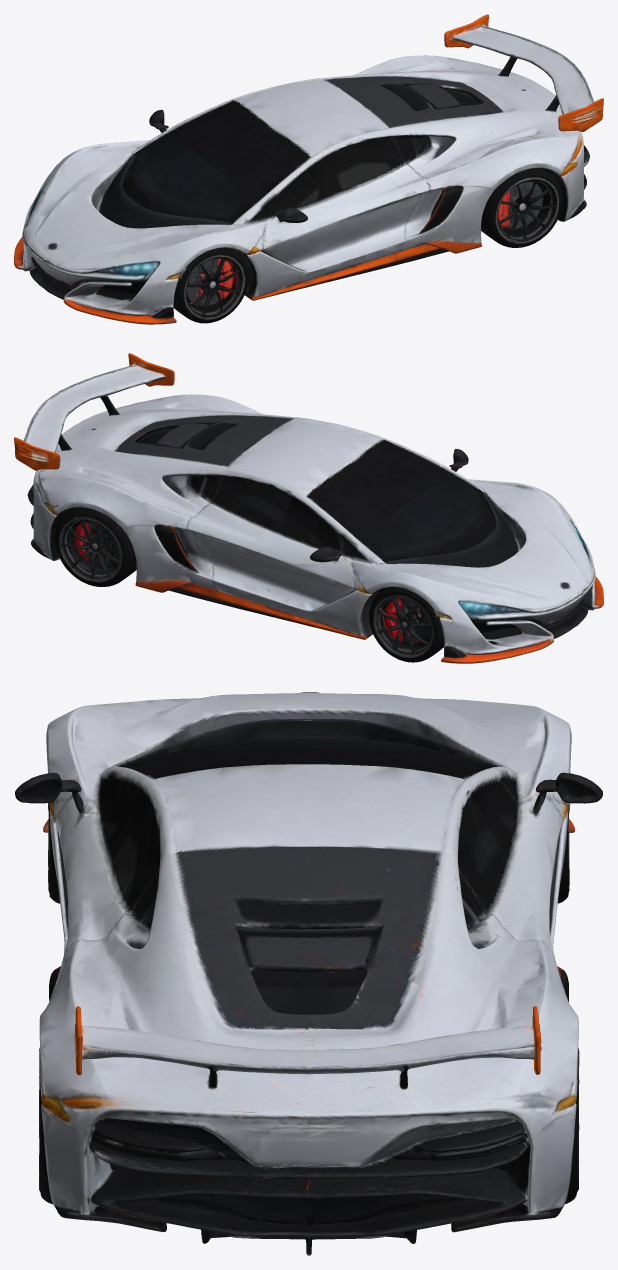
The model's file is velocity.glb.
The picture shows the model from 3 angles, top to bottom: view 1: azimuth 30°, elevation 25°; view 2: azimuth 150°, elevation 25°; view 3: azimuth 270°, elevation 25°; orthographic projection. The views are drawn at different scales.
Parts seen in each view (by area): view 1: BODY, WHEEL_LR, WHEEL_LF, WHEEL_RF; view 2: BODY, WHEEL_RR, WHEEL_RF, WHEEL_LF; view 3: BODY, WHEEL_RF, WHEEL_LF, WHEEL_RR, WHEEL_LR.
Part boxes in pixels (x1,y1,x2,y2): BODY: [14, 14, 603, 324]; WHEEL_LR: [478, 148, 571, 247]; WHEEL_LF: [170, 220, 264, 323]; WHEEL_RF: [59, 143, 134, 174]; BODY: [14, 353, 603, 663]; WHEEL_RR: [43, 476, 136, 586]; WHEEL_RF: [355, 560, 448, 662]; WHEEL_LF: [483, 482, 560, 513]; BODY: [15, 692, 602, 1255]; WHEEL_RF: [471, 711, 571, 903]; WHEEL_LF: [46, 712, 143, 903]; WHEEL_RR: [488, 1000, 579, 1203]; WHEEL_LR: [39, 994, 125, 1204].
Size of the model in its own units: 1.9 by 0.4452 by 0.9185.
1 material, 1 textured.
